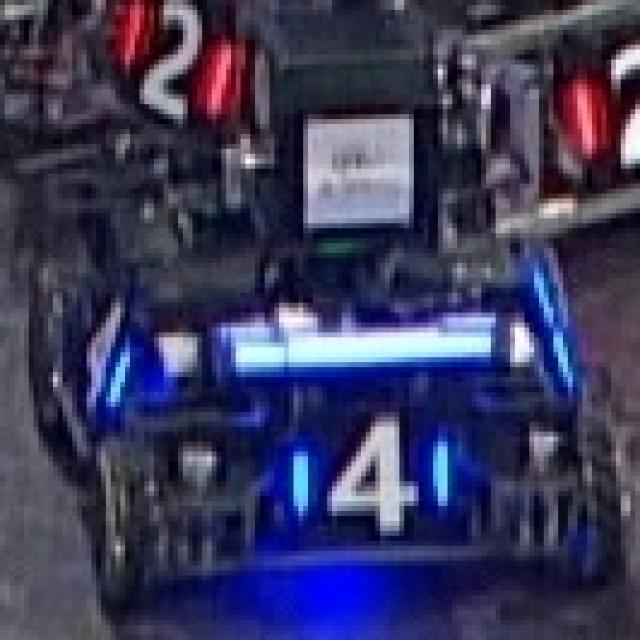B4: (289, 407, 452, 536)
